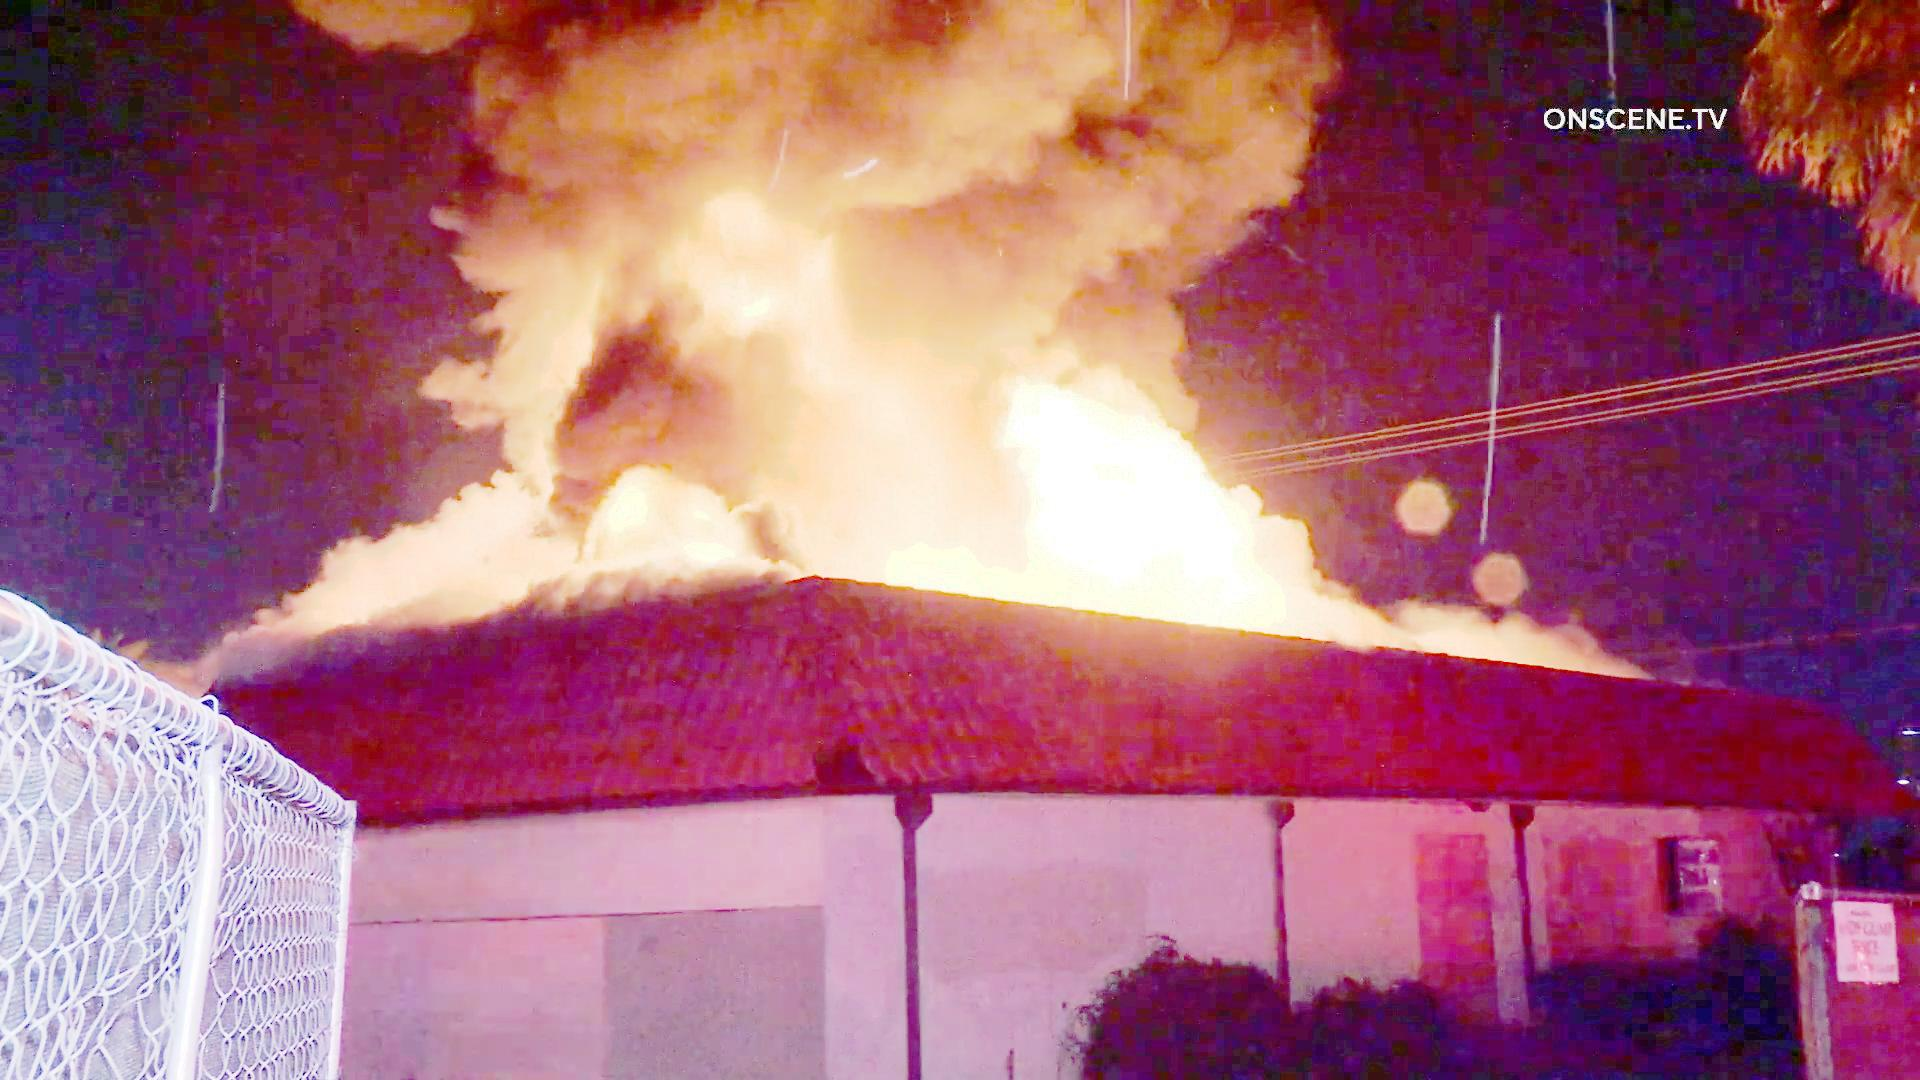fire: (1033, 433, 1237, 592)
smoke: (505, 0, 1254, 264)
